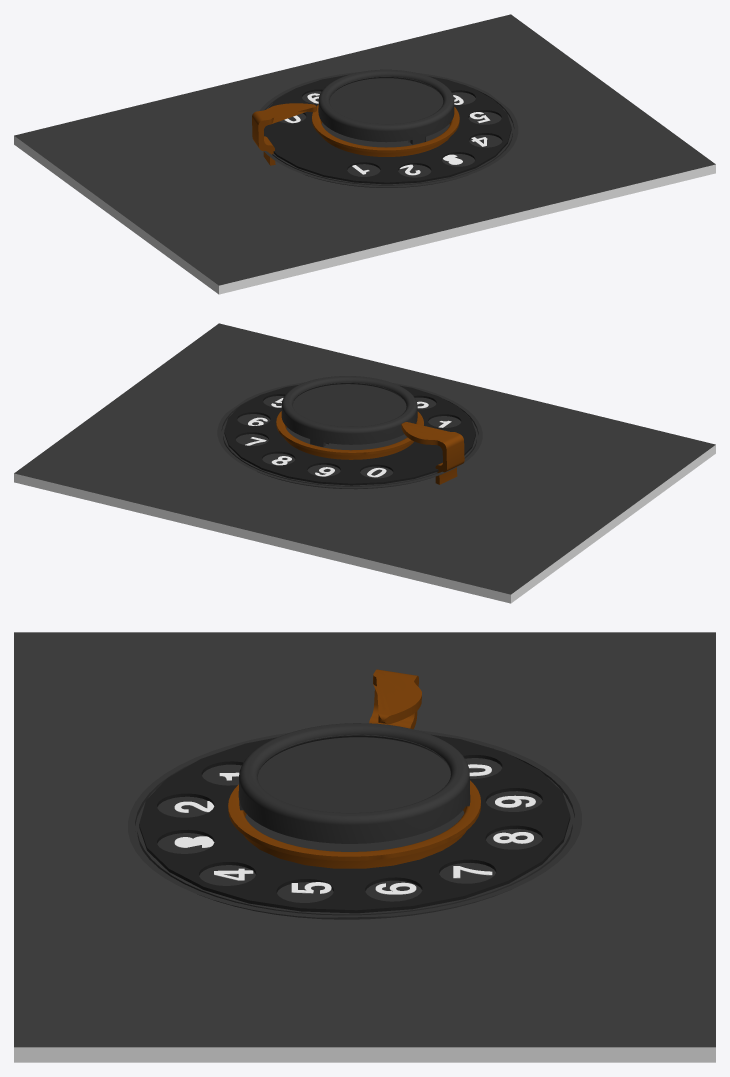
Rendered from Phone zoomed in.fbx.
3 views of the same model, one above another, from view 1: azimuth 30°, elevation 25°; view 2: azimuth 150°, elevation 25°; view 3: azimuth 270°, elevation 25° (orthographic). The views are drawn at different scales.
Parts seen in each view (by area): view 1: Group15, Group14, Group3, Group2, plat_ne, Group1; view 2: Group15, Group14, Group3, Group2, plat_ne, Group1; view 3: Group15, Group14, Group3, Group2, plat_ne, Group1.
Part boxes in pixels (<box>): Group15: <box>14,14,715,294</box>; Group14: <box>264,74,511,184</box>; Group3: <box>318,69,454,144</box>; Group2: <box>259,72,518,187</box>; plat_ne: <box>267,91,512,184</box>; Group1: <box>252,103,316,165</box>; Group15: <box>14,323,715,603</box>; Group14: <box>224,385,475,485</box>; Group3: <box>281,376,417,446</box>; Group2: <box>217,382,482,489</box>; plat_ne: <box>223,396,476,485</box>; Group1: <box>401,422,464,484</box>; Group15: <box>14,632,715,1062</box>; Group14: <box>139,734,570,913</box>; Group3: <box>239,723,470,843</box>; Group2: <box>128,730,581,919</box>; plat_ne: <box>137,758,572,914</box>; Group1: <box>369,669,421,729</box>.
Bounding box in the file's own units: 94.37 × 10.93 × 67.44.
